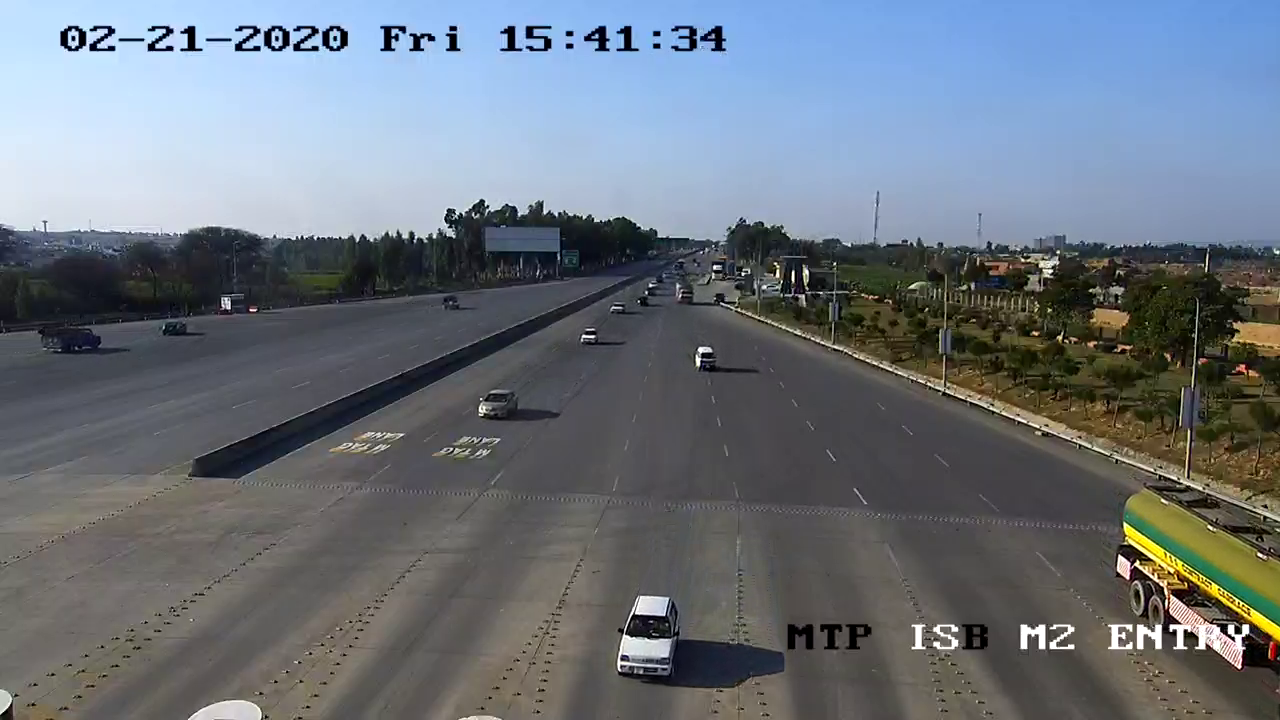f1: (606, 589, 685, 691), (471, 383, 531, 428)
